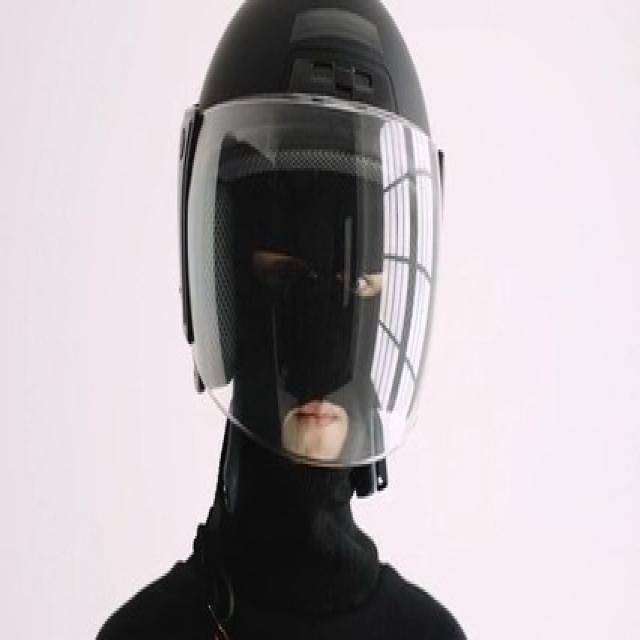Helmet_Wearer: (144, 0, 474, 640)
Person: (99, 0, 478, 640)
